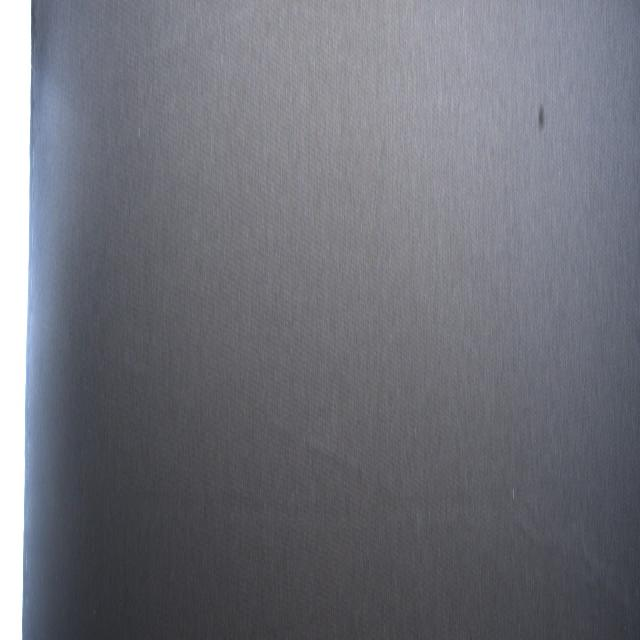crease: (125, 467, 484, 549), (498, 495, 640, 638)
